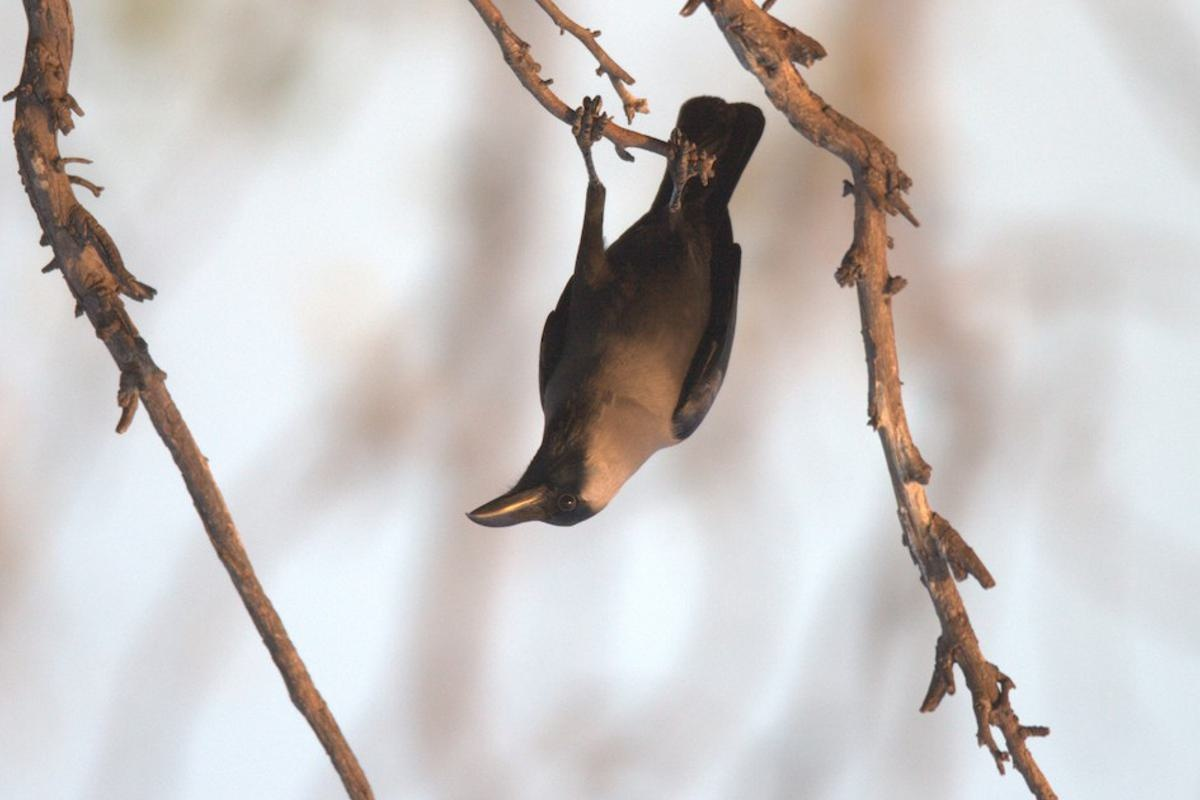crow: (452, 76, 816, 536)
